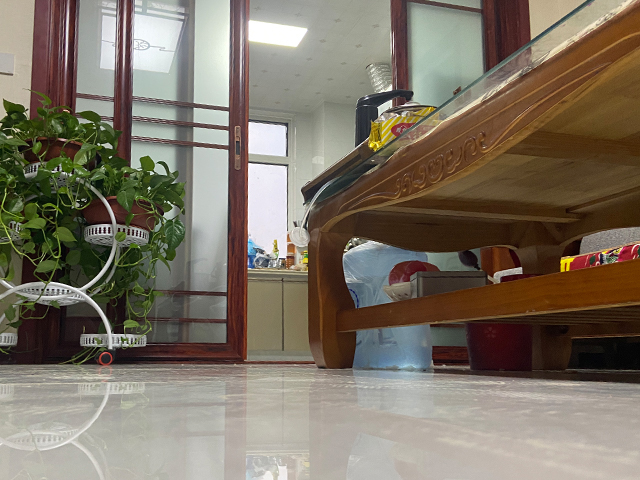cabinet: (247, 264, 311, 362)
table: (296, 1, 640, 373)
trashcan: (465, 319, 540, 374)
